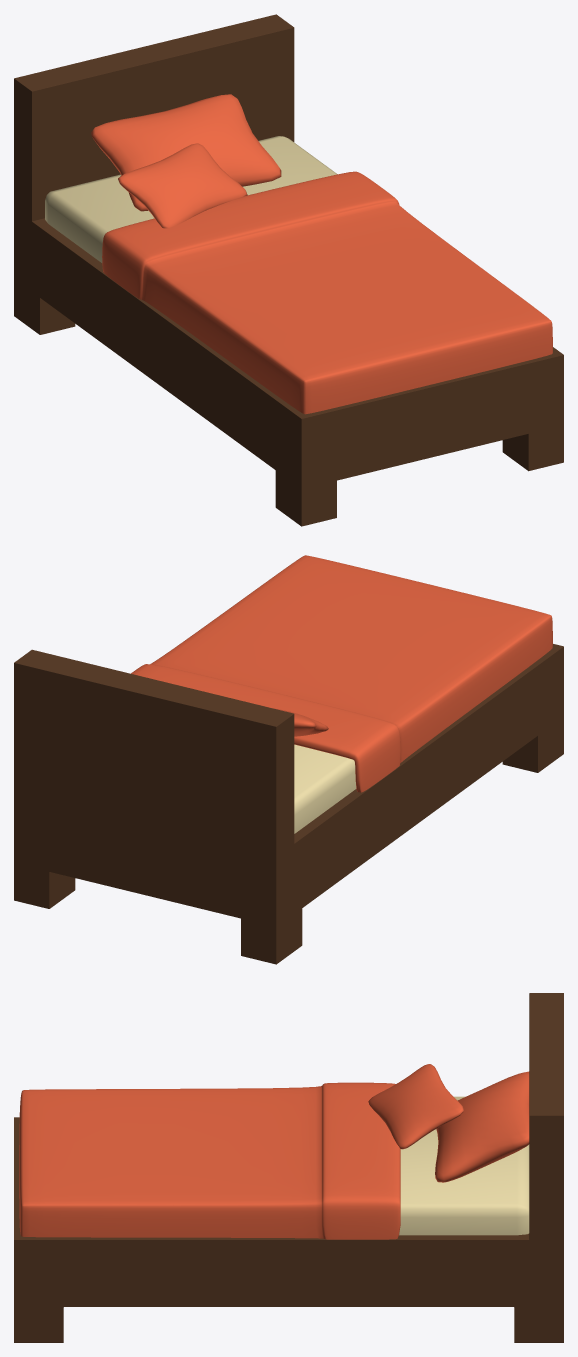
Rendered from cama.fbx.
The picture shows the model from 3 angles, top to bottom: view 1: azimuth 30°, elevation 25°; view 2: azimuth 150°, elevation 25°; view 3: azimuth 270°, elevation 25°; orthographic projection. The views are drawn at different scales.
Visible parts, largest first — view 1: patas, sabana, Cube, cama, Cube.001; view 2: patas, sabana, cama, Cube.001; view 3: sabana, patas, cama, Cube, Cube.001.
Boxes of the visible parts, x1,y1,x2,y2 form: patas: [14, 14, 563, 526]; sabana: [102, 171, 552, 414]; Cube: [91, 94, 281, 211]; cama: [45, 136, 337, 262]; Cube.001: [118, 143, 247, 228]; patas: [14, 644, 563, 964]; sabana: [131, 555, 552, 792]; cama: [294, 744, 356, 833]; Cube.001: [275, 708, 328, 736]; sabana: [19, 1082, 400, 1239]; patas: [14, 993, 563, 1342]; cama: [399, 1096, 529, 1235]; Cube: [435, 1071, 529, 1182]; Cube.001: [368, 1064, 463, 1149].
Bounding box in the file's own units: 142 × 123 × 269.
